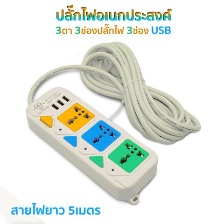three_eye_plug: (23, 84, 159, 201)
